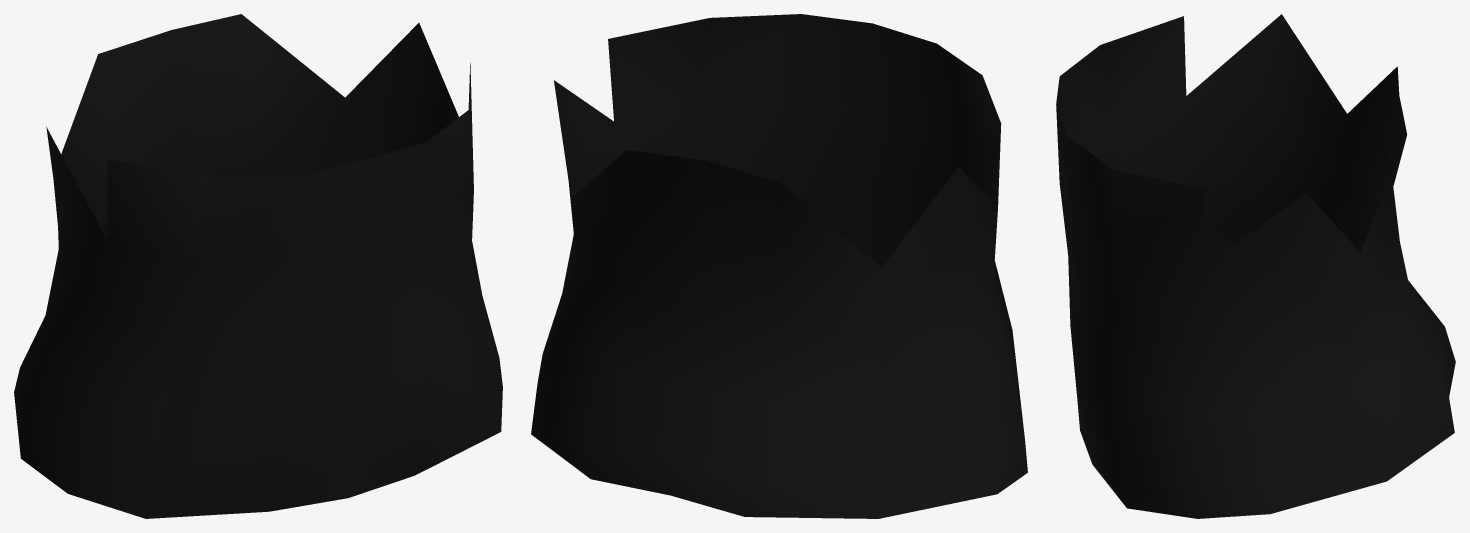
File: spine.glb
3 renders of one model, left to right at view 1: azimuth 30°, elevation 25°; view 2: azimuth 150°, elevation 25°; view 3: azimuth 270°, elevation 25°, orthographic. The views are drawn at different scales.
Visible parts, largest first — view 1: polo-black_SPINE; view 2: polo-black_SPINE; view 3: polo-black_SPINE.
Part boxes in pixels (x1=…): polo-black_SPINE: x1=14, y1=14, x2=502, y2=518; polo-black_SPINE: x1=531, y1=14, x2=1027, y2=518; polo-black_SPINE: x1=1056, y1=14, x2=1455, y2=518.
Size of the model in its own units: 0.423 by 0.3106 by 0.34.
Materials: 1 (1 with a texture image).
